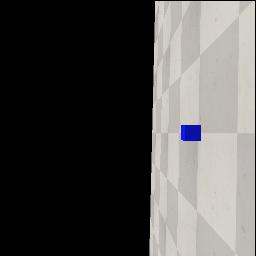box: (181, 125, 201, 141)
